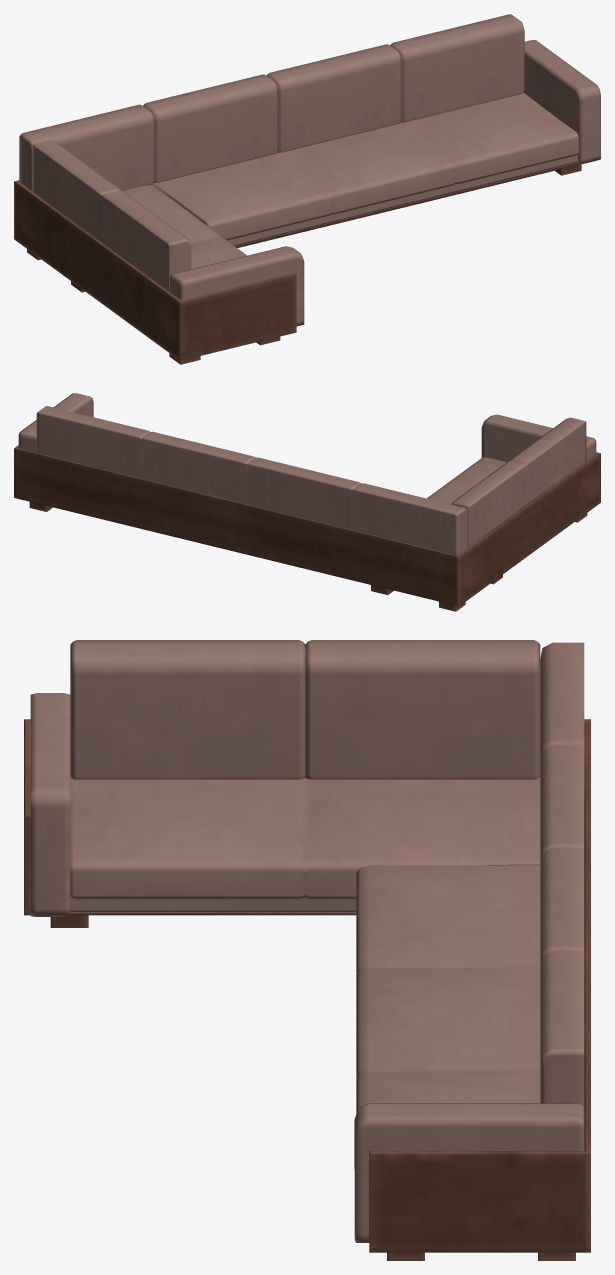
The model's file is a_com_building_b01_sofa03.gltf.
The picture shows the model from 3 angles, top to bottom: view 1: azimuth 30°, elevation 25°; view 2: azimuth 150°, elevation 25°; view 3: azimuth 270°, elevation 25°; orthographic projection. The views are drawn at different scales.
Parts seen in each view (by area): view 1: a_com_building_b01_sofa03_mesh_shape:a_com_building_b01_sofa; view 2: a_com_building_b01_sofa03_mesh_shape:a_com_building_b01_sofa; view 3: a_com_building_b01_sofa03_mesh_shape:a_com_building_b01_sofa.
Part boxes in pixels (x1,y1,x2,y2): a_com_building_b01_sofa03_mesh_shape:a_com_building_b01_sofa: [14, 14, 600, 364]; a_com_building_b01_sofa03_mesh_shape:a_com_building_b01_sofa: [14, 393, 600, 611]; a_com_building_b01_sofa03_mesh_shape:a_com_building_b01_sofa: [24, 640, 590, 1260].
Bounding box in the file's own units: 3.91 × 0.8424 × 2.16.
1 material, 1 textured.
